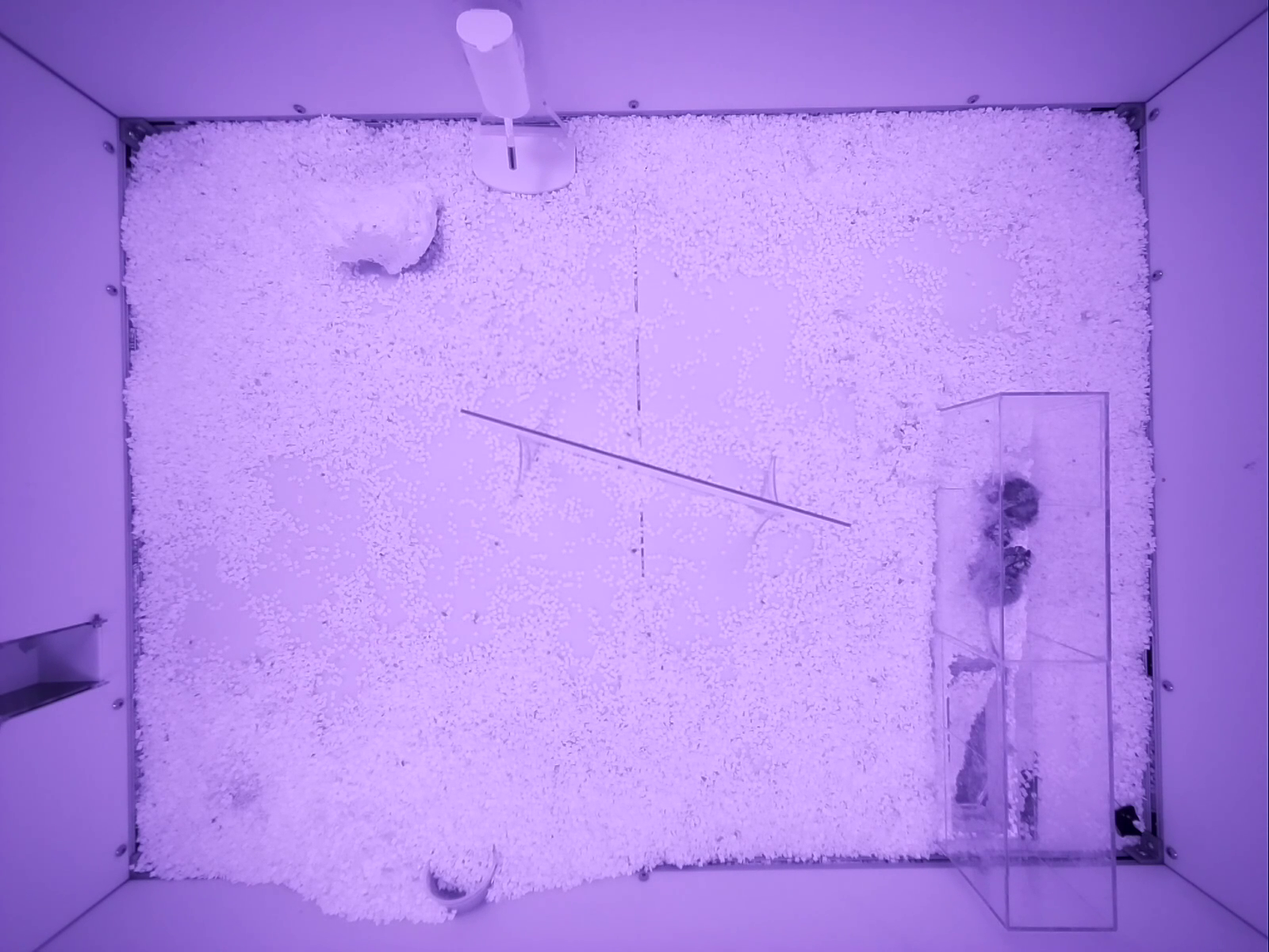adult_back: (969, 544, 1033, 658), (983, 475, 1039, 546)
